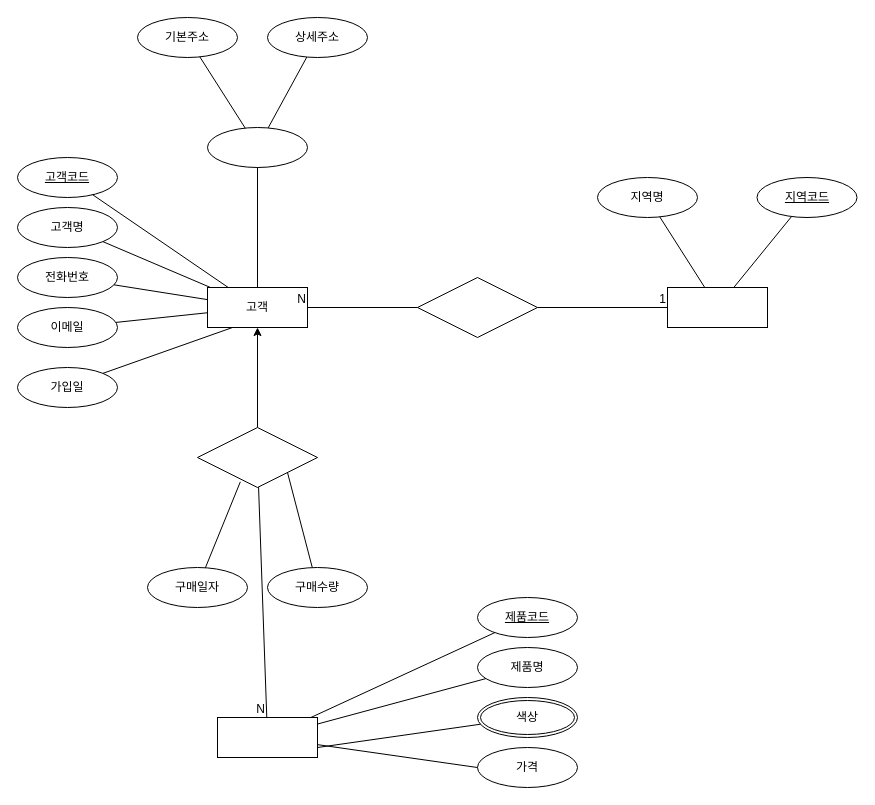
The diagram is 875 pixels wide and 805 high, and some of its shapes have lost their labels. The shapes that lost their labels are listed below. From the top down, each one's box as (x1, y1, x2, y2) in pixels, then its label:
(206, 126, 308, 168): 주소
(416, 276, 538, 338): 관리
(666, 286, 768, 328): 지역
(196, 426, 318, 488): 구매
(216, 716, 318, 758): 제품
